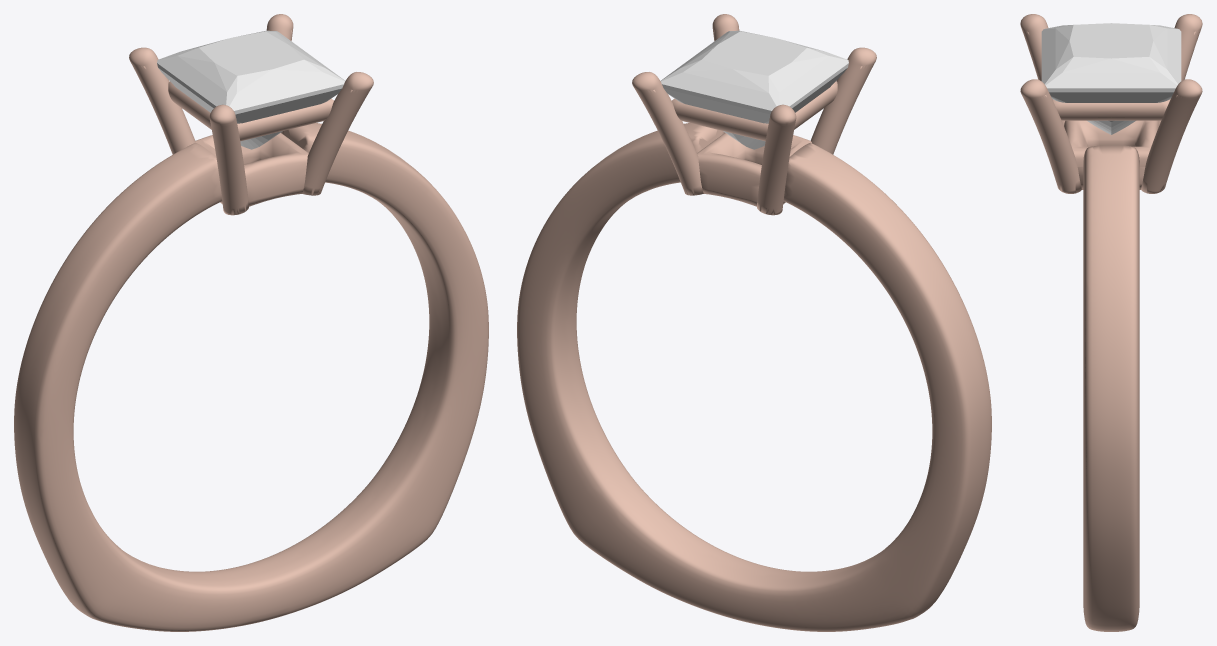
File: diamond-princess-rosegold-4prong-europeanshank-solitaire.glb
3 renders of one model, left to right at view 1: azimuth 30°, elevation 25°; view 2: azimuth 150°, elevation 25°; view 3: azimuth 270°, elevation 25°, orthographic.
Visible parts, largest first — view 1: metal, stone; view 2: metal, stone; view 3: metal, stone.
Part boxes in pixels (x1=…): metal: x1=14, y1=14, x2=488, y2=631; stone: x1=157, y1=30, x2=345, y2=149; metal: x1=517, y1=14, x2=991, y2=631; stone: x1=660, y1=30, x2=848, y2=149; metal: x1=1020, y1=14, x2=1202, y2=631; stone: x1=1041, y1=23, x2=1181, y2=134.
Size of the model in its own units: 20.11 by 23.65 by 7.08.
